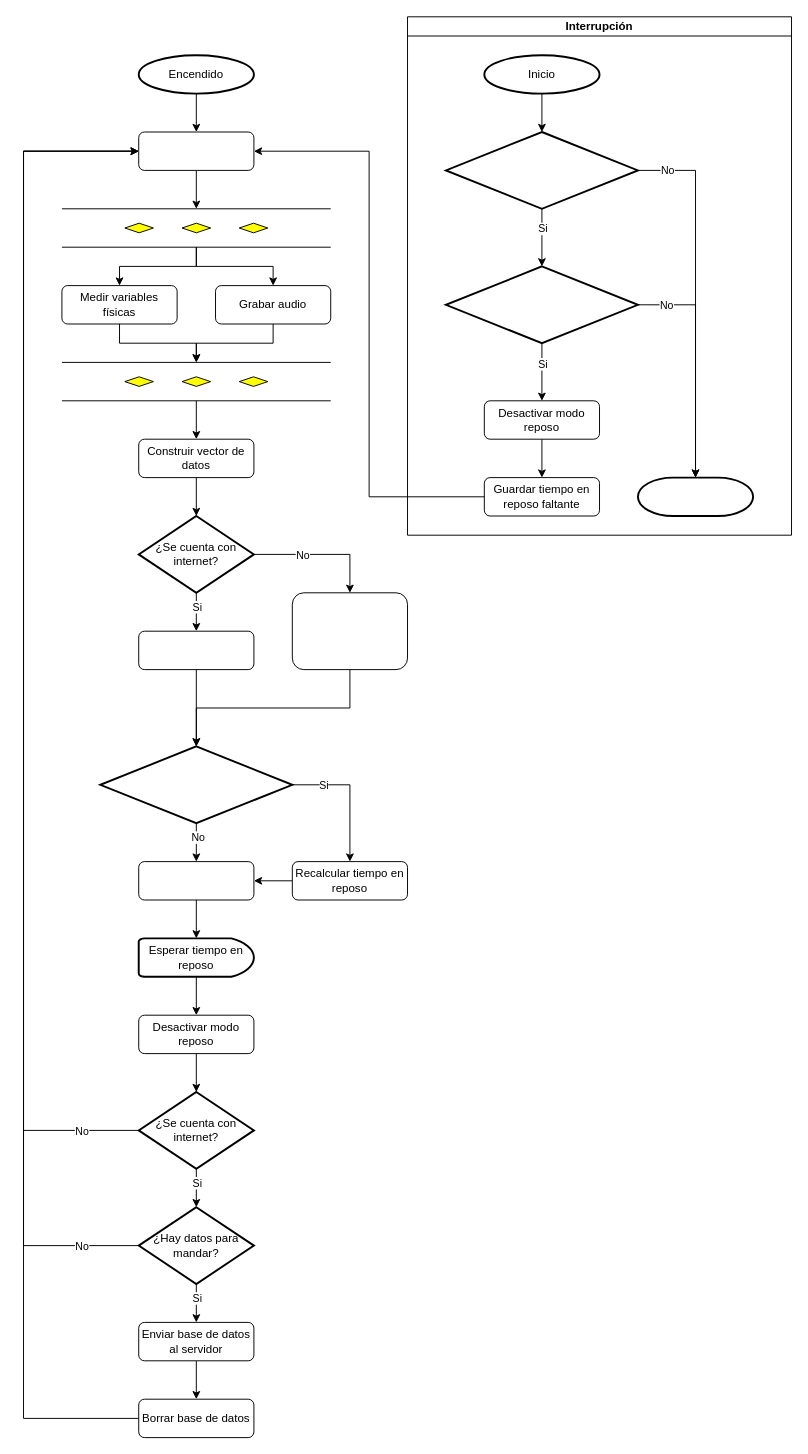
The diagram is 808 pixels wide and 1454 high, and some of its shapes have lost their labels. The box of each missing label's shape, as (x1, y1, x2, y2) in pixels:
Activar modo reposo: (138, 861, 254, 900)
Enviar datos al servidor: (138, 630, 254, 670)
Fin: (636, 476, 754, 516)
Guardar datos en base de datos interna: (291, 592, 408, 670)
Recopilar datos: (138, 131, 254, 170)
¿Hay ruido por encima del promedio?: (444, 131, 638, 209)
¿Hay tiempo en reposo faltante?: (99, 745, 293, 824)
¿Se está en modo reposo?: (444, 265, 638, 344)
